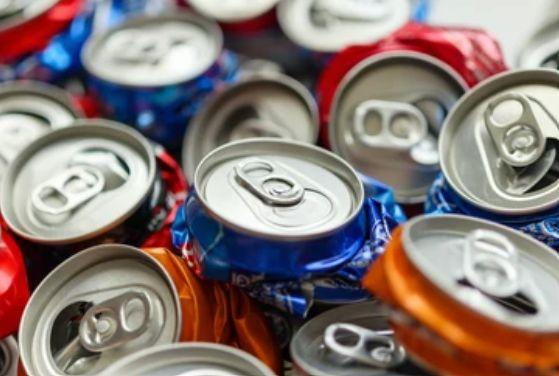metal: (170, 136, 407, 309), (361, 211, 559, 376), (18, 243, 234, 376), (2, 119, 188, 247), (329, 51, 472, 204), (439, 69, 559, 247), (80, 10, 225, 116), (183, 76, 321, 180), (290, 305, 420, 376), (0, 0, 97, 92), (0, 83, 83, 161)
